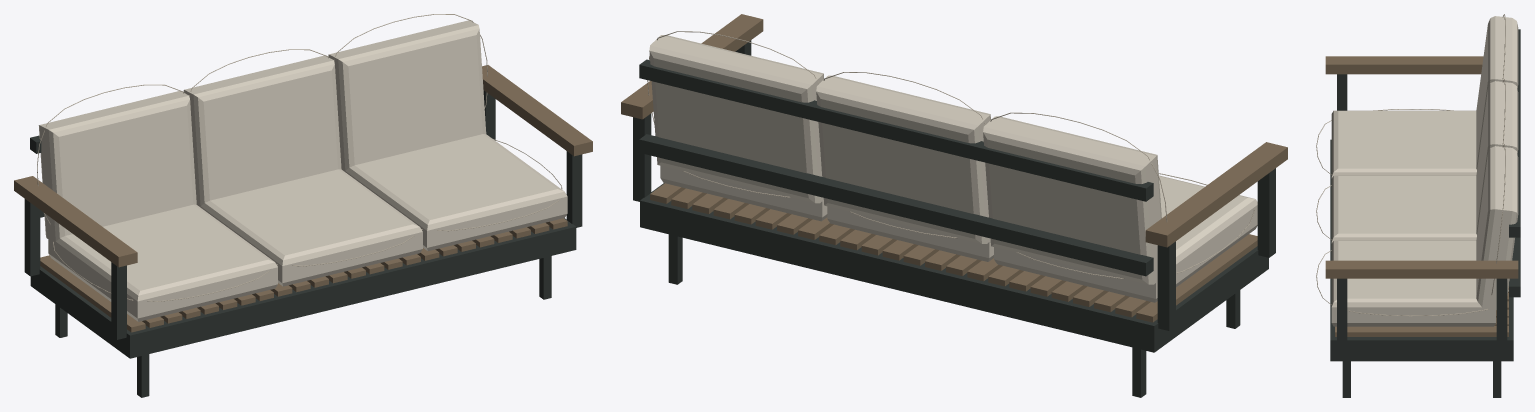
Rendered from outdoor-sofa-lod2.glb.
The picture shows the model from 3 angles, left to right: view 1: azimuth 30°, elevation 25°; view 2: azimuth 150°, elevation 25°; view 3: azimuth 270°, elevation 25°; orthographic projection. The views are drawn at different scales.
Parts seen in each view (by area): view 1: Natural woven outdoor cushion, Powder-coated charcoal frame, Warm teak slats, Cushion stitched piping; view 2: Natural woven outdoor cushion, Powder-coated charcoal frame, Warm teak slats, Cushion stitched piping; view 3: Natural woven outdoor cushion, Powder-coated charcoal frame, Warm teak slats, Cushion stitched piping.
Part boxes in pixels (left/top/right/bottom): Natural woven outdoor cushion: left=38, top=20, right=567, bottom=321; Powder-coated charcoal frame: left=24, top=90, right=582, bottom=397; Warm teak slats: left=14, top=65, right=592, bottom=332; Cushion stitched piping: left=37, top=14, right=562, bottom=301; Natural woven outdoor cushion: left=649, top=35, right=1257, bottom=302; Powder-coated charcoal frame: left=633, top=40, right=1275, bottom=397; Warm teak slats: left=621, top=14, right=1287, bottom=322; Cushion stitched piping: left=647, top=31, right=1254, bottom=278; Natural woven outdoor cushion: left=1331, top=16, right=1518, bottom=326; Powder-coated charcoal frame: left=1330, top=29, right=1520, bottom=397; Warm teak slats: left=1325, top=56, right=1518, bottom=336; Cushion stitched piping: left=1316, top=14, right=1508, bottom=316.
Size of the model in its own units: 2.14 by 0.9882 by 0.8704.
